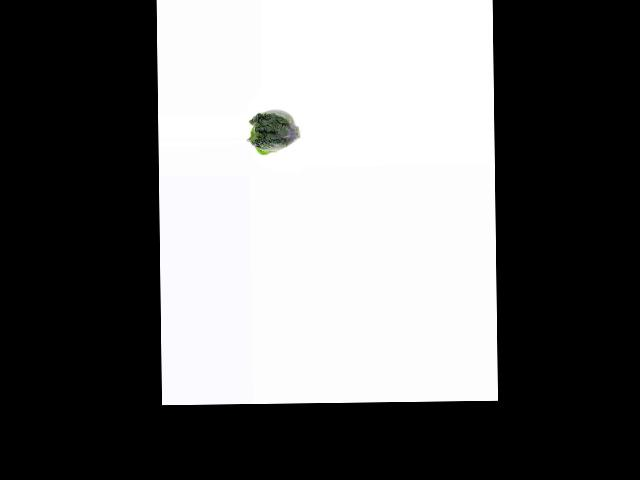lettuce: (247, 107, 300, 157)
